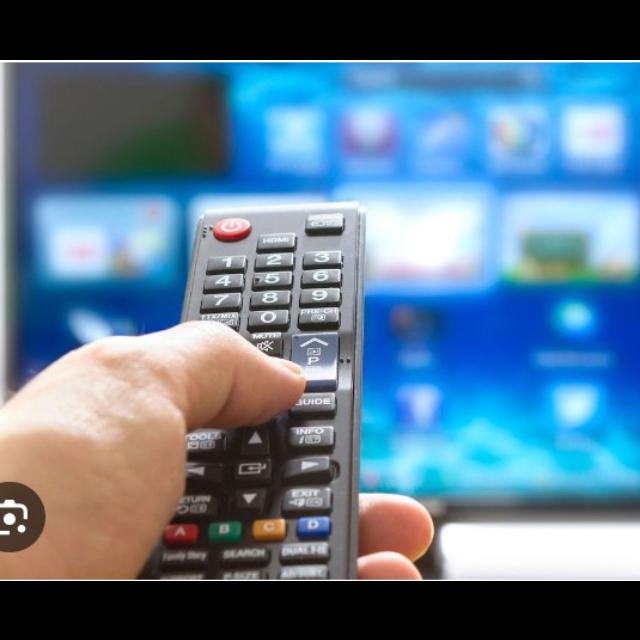TV-Remote-Control: (139, 201, 368, 581)
